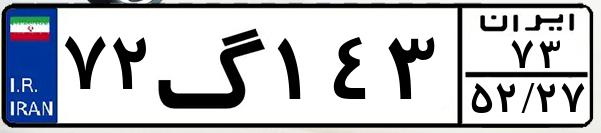1: (270, 28, 330, 110)
2: (110, 28, 156, 98), (495, 70, 520, 125), (535, 70, 560, 125)
3: (385, 28, 445, 110), (537, 27, 568, 80)
4: (330, 28, 385, 110)
5: (470, 70, 495, 125)
7: (57, 26, 110, 100), (560, 70, 590, 125), (508, 27, 537, 80)
گ: (156, 12, 270, 120)
